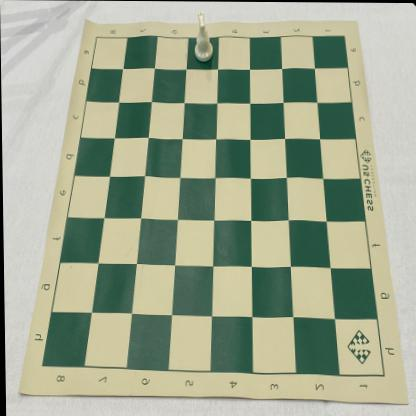white-knight: (193, 8, 213, 62)
